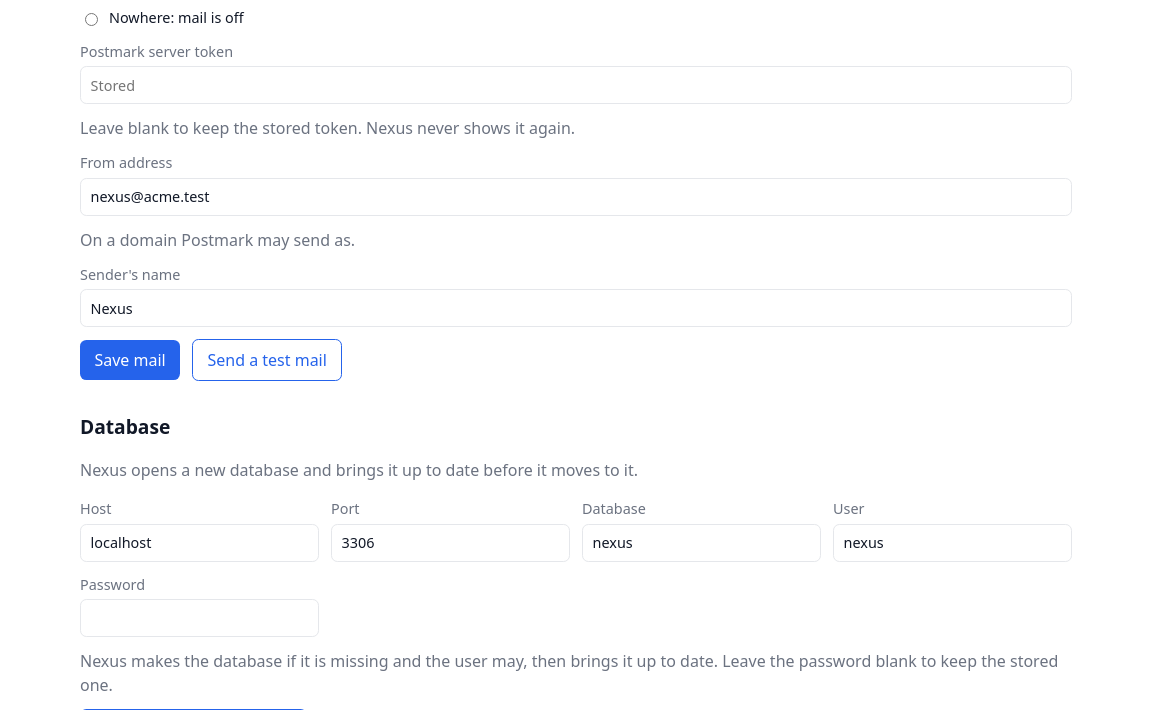
keeps the token write-only and sends a test mail
(page scrolled)
Click the button "Send a test mail": (267, 360) [192,339,342,381]
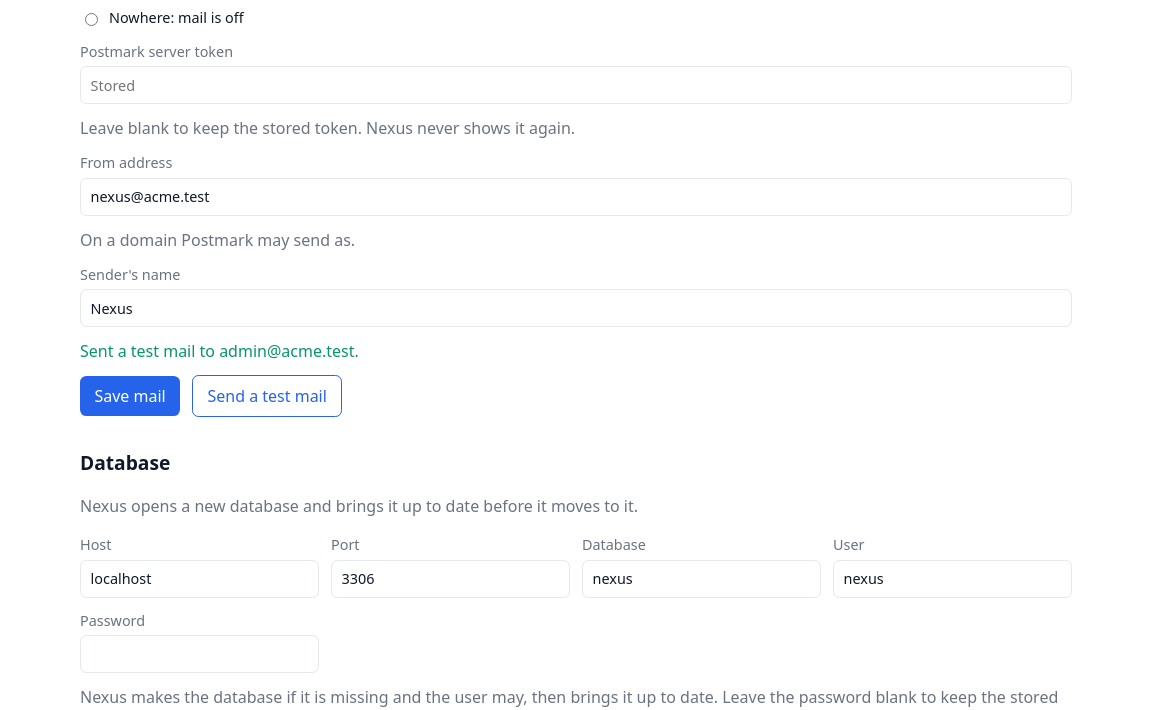
Expected: the password field labelled "Postmark server token" is empty, [80,66,1072,104]
Now the text "Sent a test mail to admin@acme.test." is shown, box [80,340,359,362]
